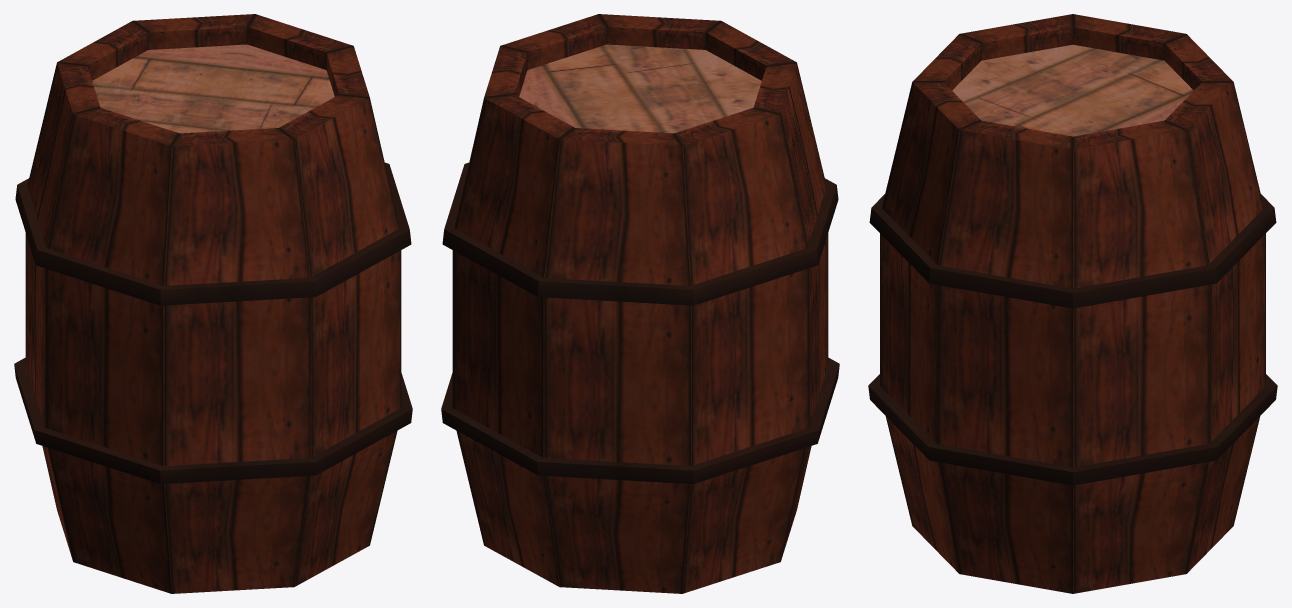
File: barrel.fbx
3 views of the same model, side by side, from view 1: azimuth 30°, elevation 25°; view 2: azimuth 150°, elevation 25°; view 3: azimuth 270°, elevation 25° (orthographic).
Parts seen in each view (by area): view 1: Cylinder; view 2: Cylinder; view 3: Cylinder.
Boxes of the visible parts, x1=… form: Cylinder: x1=14, y1=14, x2=412, y2=593; Cylinder: x1=441, y1=14, x2=839, y2=593; Cylinder: x1=868, y1=14, x2=1277, y2=593.
Size of the model in its own units: 181 by 217 by 181.
